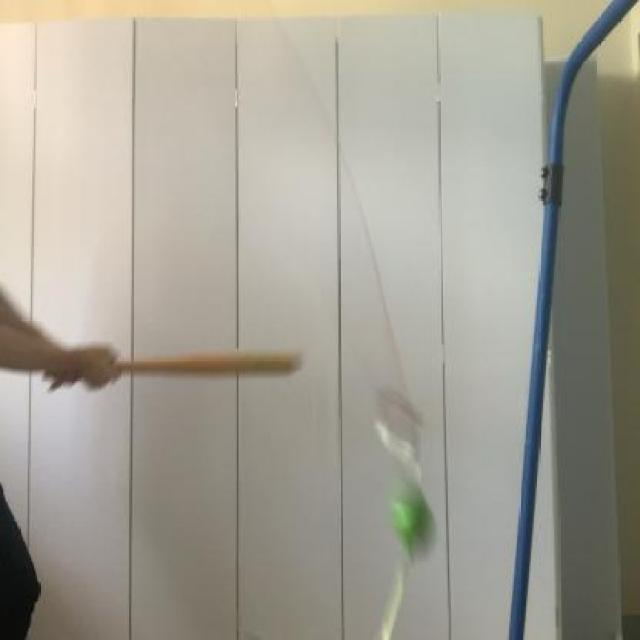baseball: (387, 474, 448, 572)
